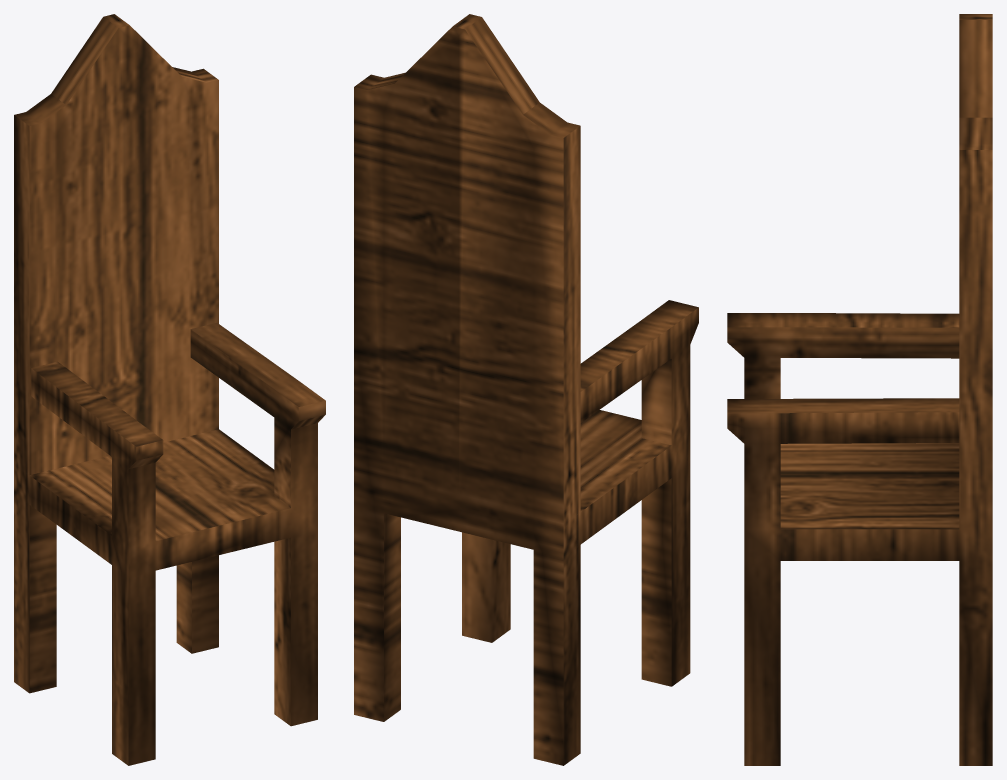
The model's file is Chair_2.gltf.
3 views of the same model, side by side, from view 1: azimuth 30°, elevation 25°; view 2: azimuth 150°, elevation 25°; view 3: azimuth 270°, elevation 25° (orthographic). The views are drawn at different scales.
Visible parts, largest first — view 1: Chair_2.001; view 2: Chair_2.001; view 3: Chair_2.001.
Boxes of the visible parts, box(x1,y1,x2,y2) form: Chair_2.001: box(14, 14, 325, 765); Chair_2.001: box(354, 14, 698, 765); Chair_2.001: box(727, 14, 992, 765).
Bounding box in the file's own units: 2 × 6.5 × 2.24.
1 material, 1 textured.
